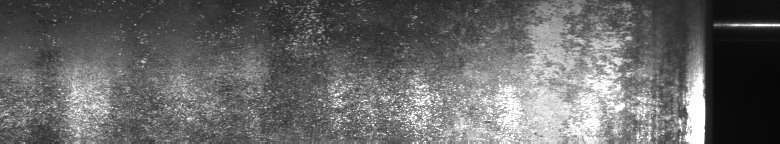kb: (4, 4, 691, 136)
